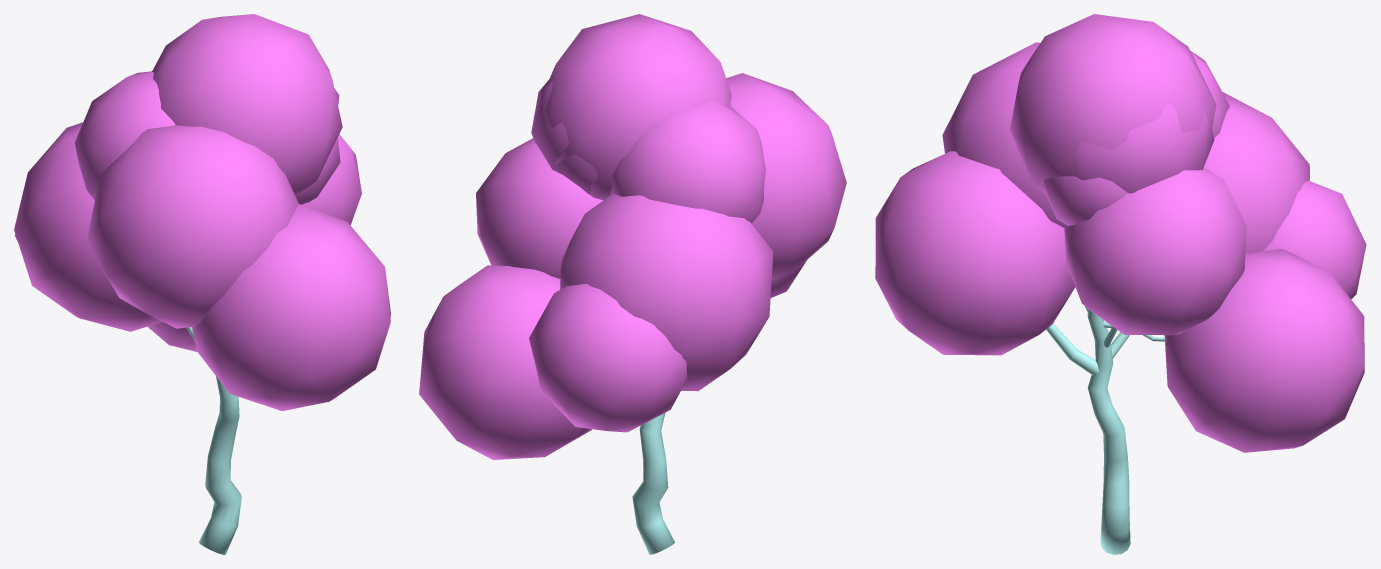
File: JulissaTree.fbx
The picture shows the model from 3 angles, left to right: view 1: azimuth 30°, elevation 25°; view 2: azimuth 150°, elevation 25°; view 3: azimuth 270°, elevation 25°; orthographic projection. The views are drawn at different scales.
Parts seen in each view (by area): view 1: merge1; view 2: merge1; view 3: merge1.
Part boxes in pixels (x1,y1,x2,y2): merge1: (14,14,390,554); merge1: (419,14,846,554); merge1: (875,14,1366,554).
Bounding box in the file's own units: 4.45 × 7.48 × 6.19.
